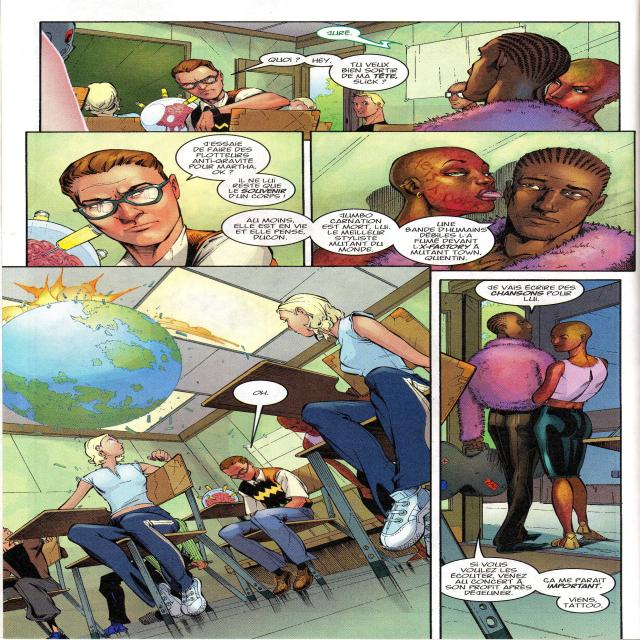comic_panel: (2, 266, 433, 640), (439, 278, 622, 640), (38, 22, 621, 133), (309, 131, 636, 272), (25, 131, 307, 268)
